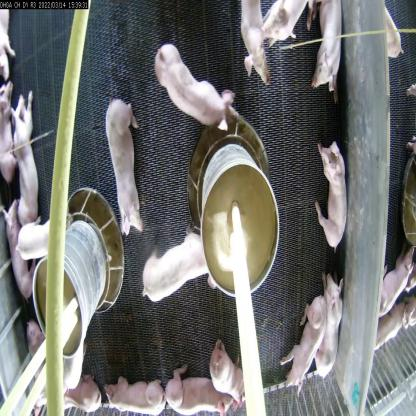Pig: (150, 30, 244, 139), (101, 90, 152, 238), (140, 232, 214, 315), (12, 88, 51, 240), (309, 142, 352, 272), (0, 196, 37, 315), (315, 267, 346, 403), (286, 292, 328, 392), (233, 0, 274, 97), (17, 215, 87, 269), (314, 4, 349, 101), (212, 343, 258, 416), (166, 365, 231, 415), (102, 368, 166, 415)
